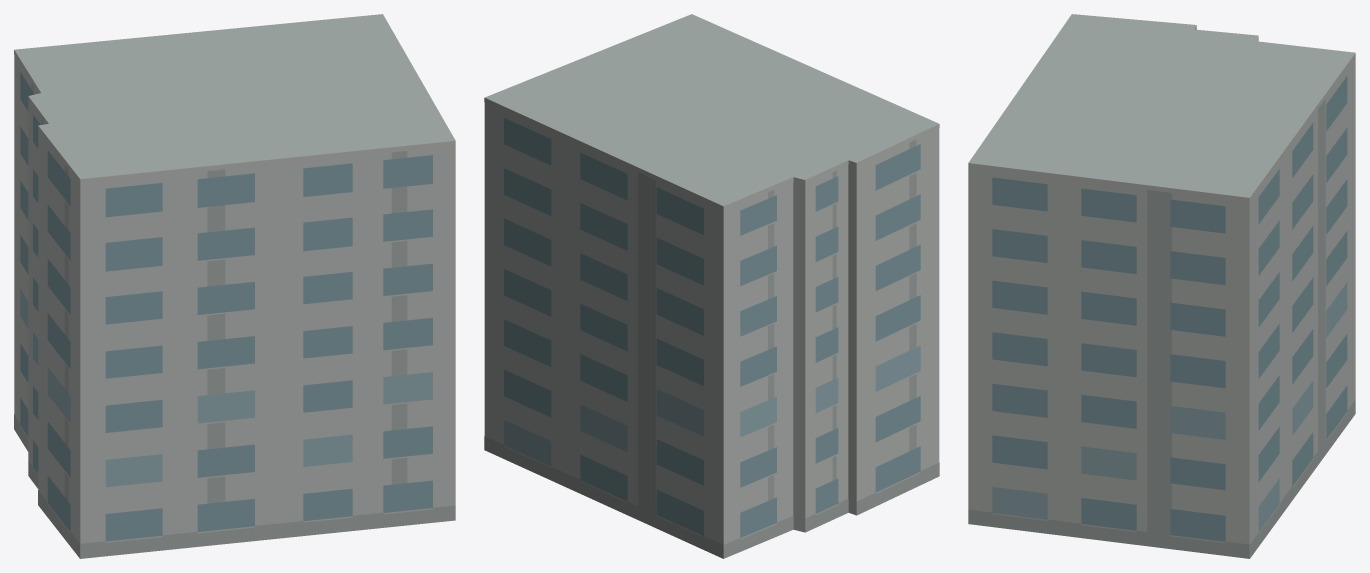
Rendered from survey-upis-32964609.glb.
The picture shows the model from 3 angles, left to right: view 1: azimuth 30°, elevation 25°; view 2: azimuth 150°, elevation 25°; view 3: azimuth 270°, elevation 25°; orthographic projection. The views are drawn at different scales.
Parts seen in each view (by area): view 1: survey-upis-32964609.tmp; view 2: survey-upis-32964609.tmp; view 3: survey-upis-32964609.tmp.
Part boxes in pixels (x1,y1,x2,y2): survey-upis-32964609.tmp: (14, 14, 455, 558); survey-upis-32964609.tmp: (484, 14, 939, 558); survey-upis-32964609.tmp: (968, 14, 1355, 558).
Bounding box in the file's own units: 20.11 × 18.4 × 17.9.
